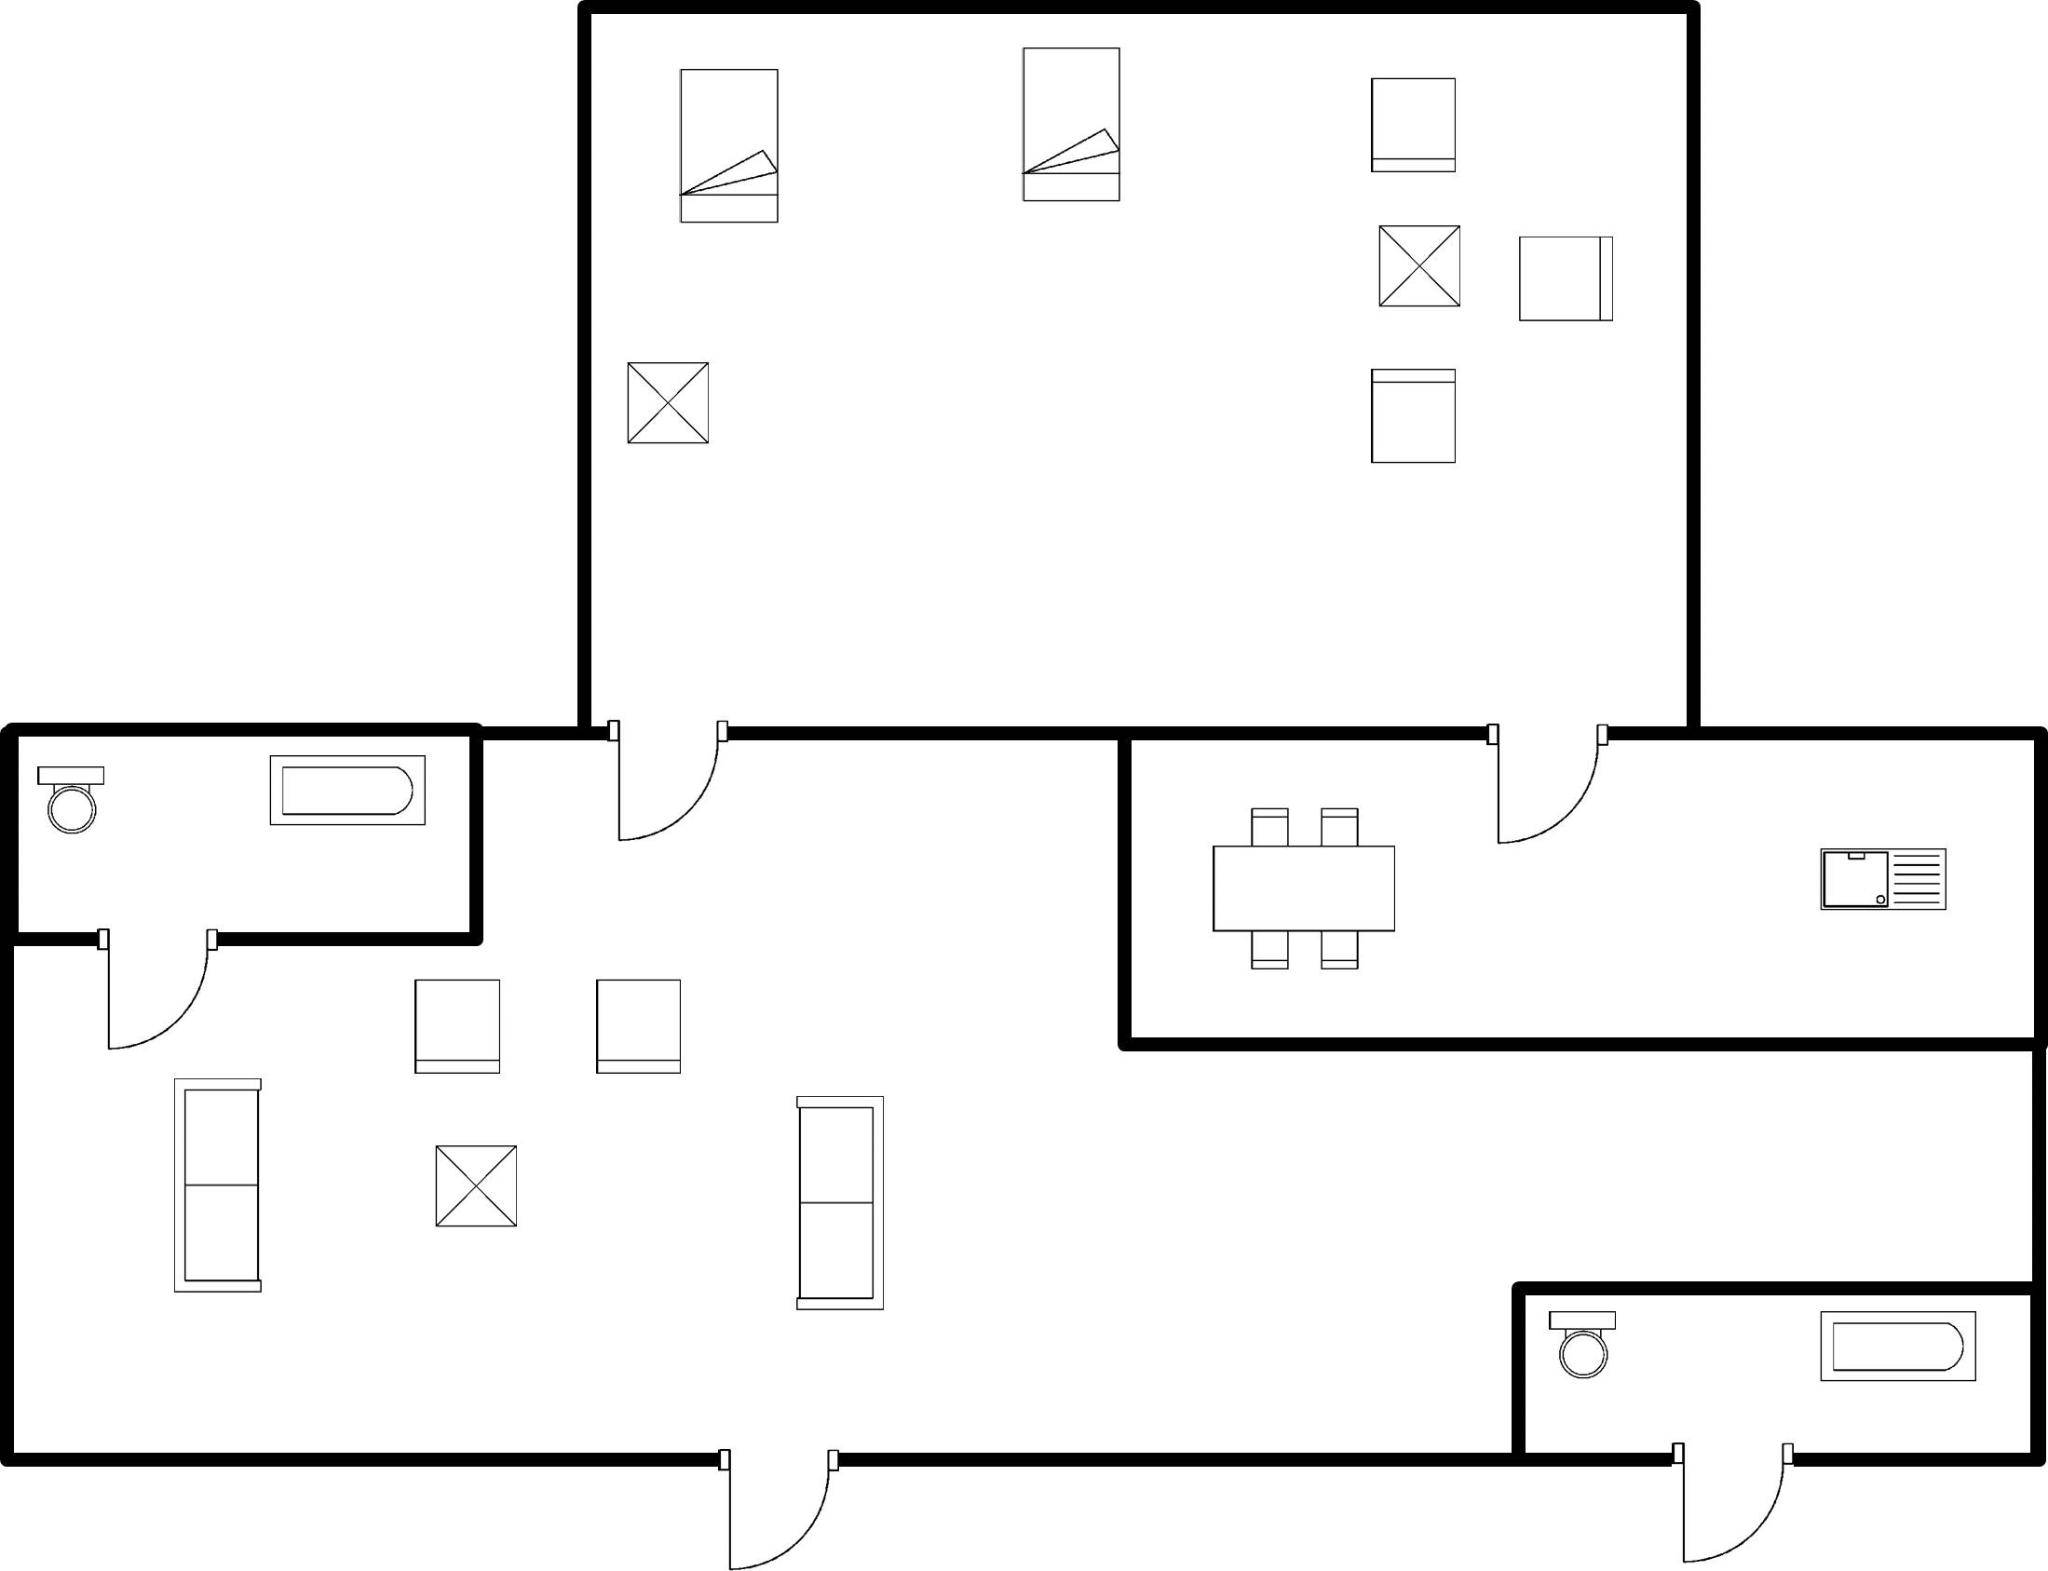bed: (672, 54, 794, 239), (1008, 36, 1135, 213)
dining_table: (1195, 794, 1403, 980)
sink: (1810, 835, 1962, 926)
sofa: (786, 1086, 898, 1328), (160, 1068, 269, 1299)
toilet: (26, 754, 120, 847), (1535, 1302, 1622, 1386)
tub: (1809, 1304, 1987, 1398), (259, 749, 436, 838)
